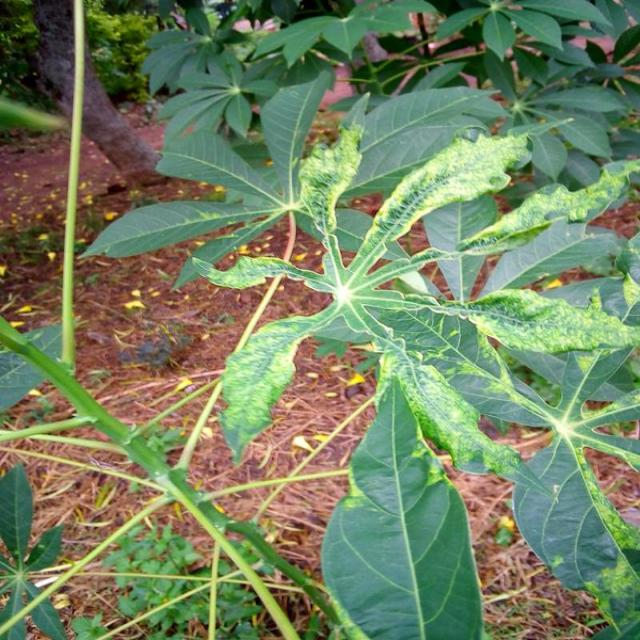cassava leaf: (320, 365, 490, 638)
